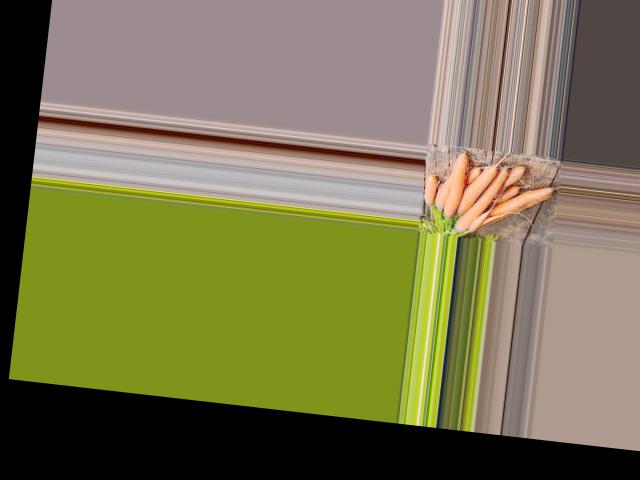carrot: (489, 178, 551, 222)
